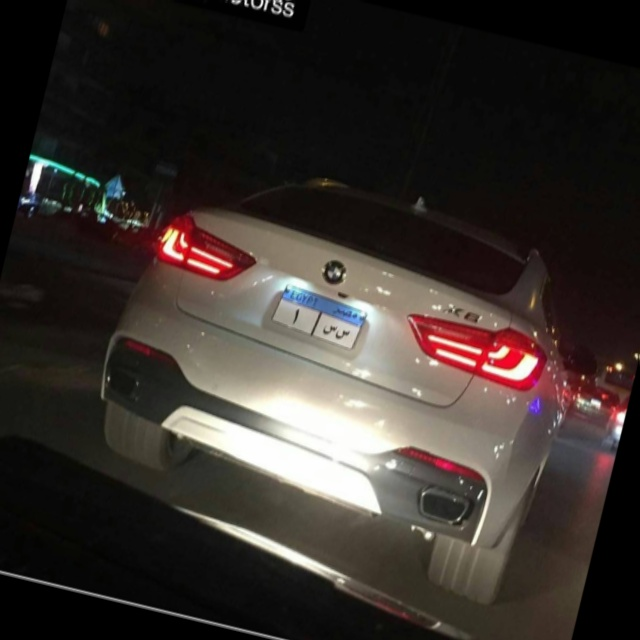License Plate: (266, 279, 373, 356)
